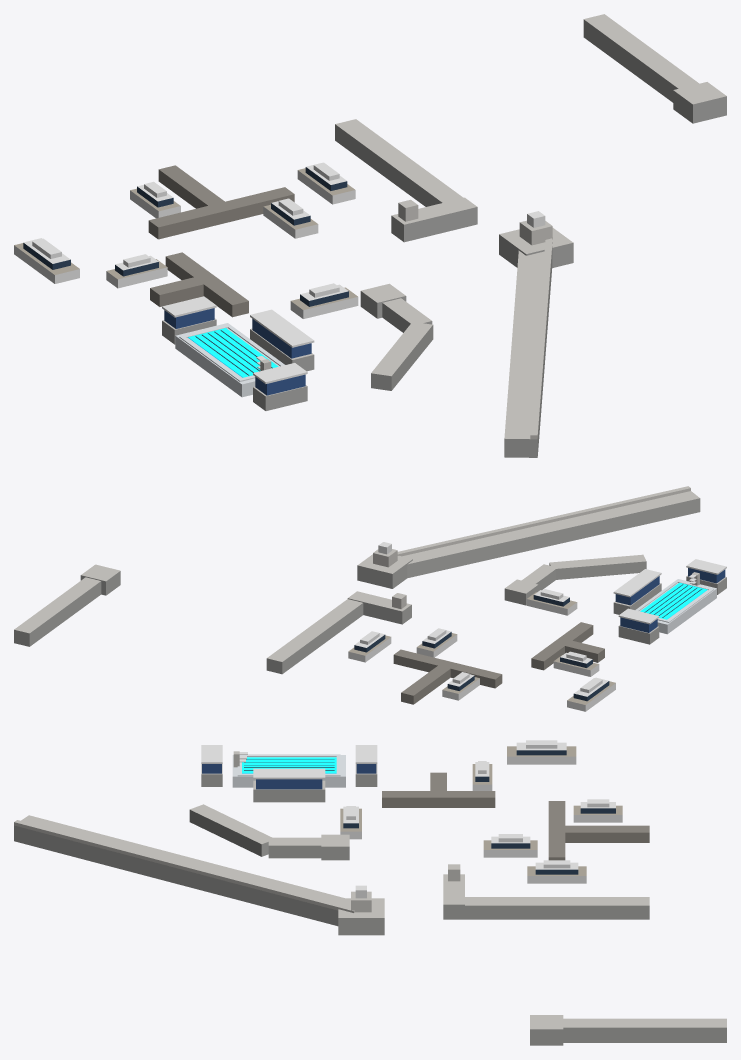
The model's file is monaco_harbour.dae.
The picture shows the model from 3 angles, top to bottom: view 1: azimuth 30°, elevation 25°; view 2: azimuth 150°, elevation 25°; view 3: azimuth 270°, elevation 25°; orthographic projection. The views are drawn at different scales.
Visible parts, largest first — view 1: monaco_harbour; view 2: monaco_harbour; view 3: monaco_harbour.
Boxes of the visible parts, x1,y1,x2,y2 form: monaco_harbour: (14, 14, 726, 457); monaco_harbour: (14, 486, 726, 711); monaco_harbour: (14, 740, 726, 1045).
Bounding box in the file's own units: 131 × 138 × 8.
